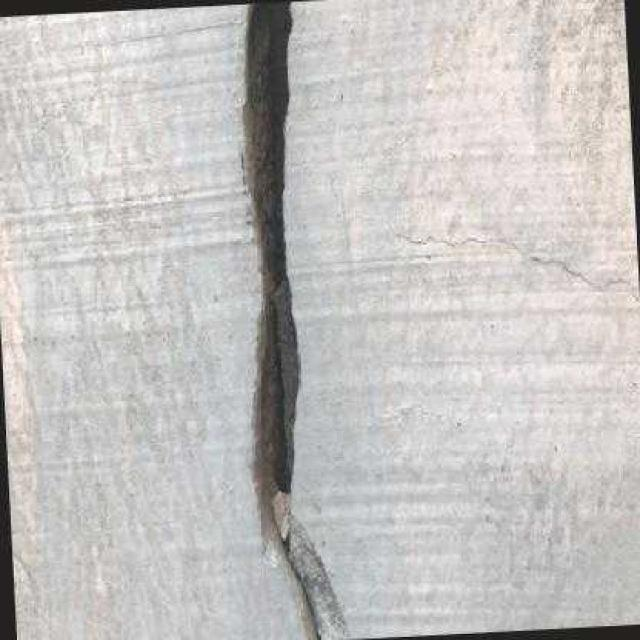D00: (242, 1, 325, 640)
